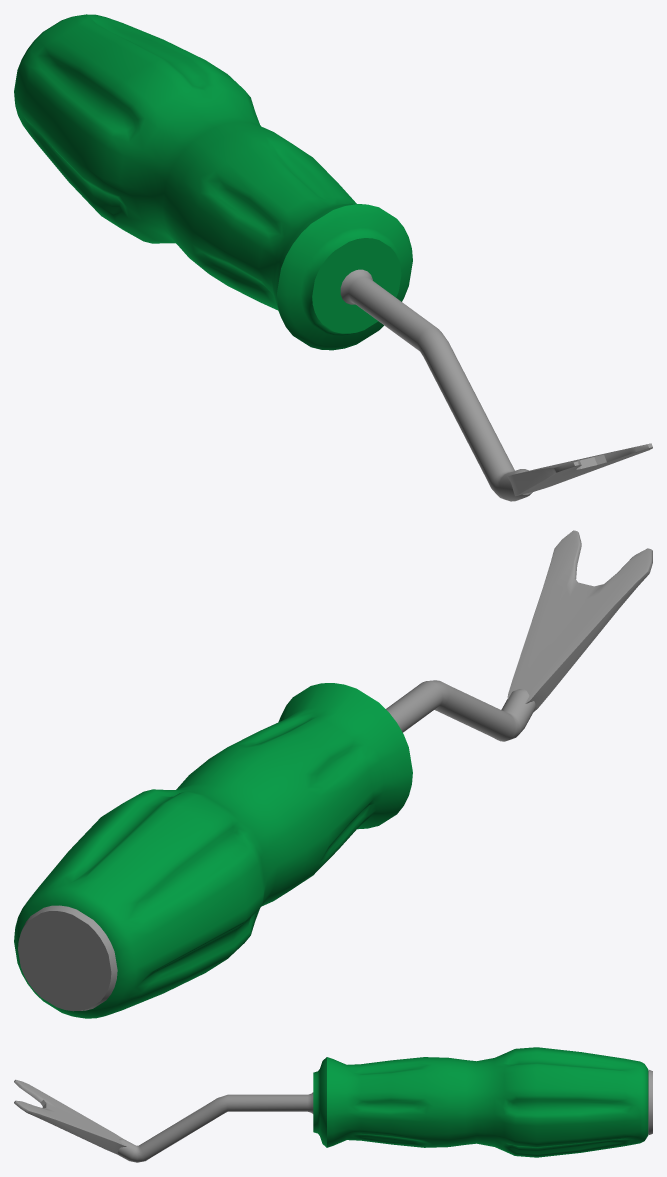
File: clip_remover.fbx
3 views of the same model, one above another, from view 1: azimuth 30°, elevation 25°; view 2: azimuth 150°, elevation 25°; view 3: azimuth 270°, elevation 25° (orthographic). The views are drawn at different scales.
Visible parts, largest first — view 1: clip_remover; view 2: clip_remover; view 3: clip_remover.
Part boxes in pixels (x1=…): clip_remover: x1=14, y1=14, x2=652, y2=501; clip_remover: x1=14, y1=530, x2=652, y2=1018; clip_remover: x1=14, y1=1047, x2=652, y2=1162.
Bounding box in the file's own units: 3.48 × 3.8 × 20.02.
